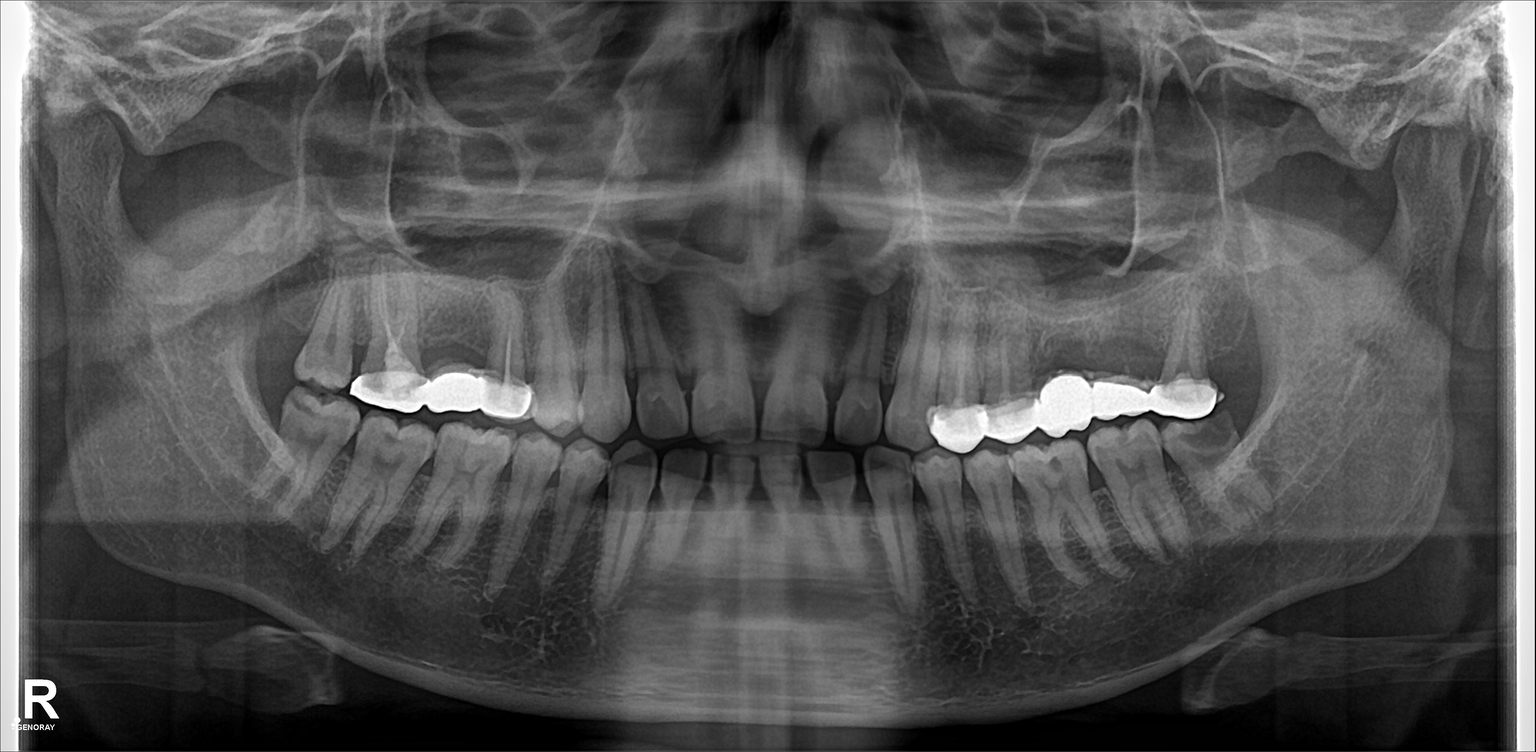Dental Caries: (1177, 419, 1238, 459)
Endodontically Treated Tooth: (354, 274, 422, 408), (1095, 292, 1155, 416), (983, 296, 1035, 439), (933, 307, 983, 445), (1037, 300, 1086, 426), (1160, 294, 1213, 408), (426, 292, 475, 410), (477, 305, 527, 413)
Missing Tooth: (264, 264, 310, 393), (1220, 292, 1260, 399)
